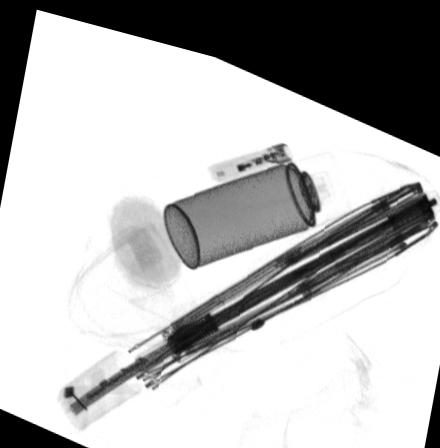Lighter: (205, 127, 292, 171)
Sprayer: (163, 131, 353, 258)
